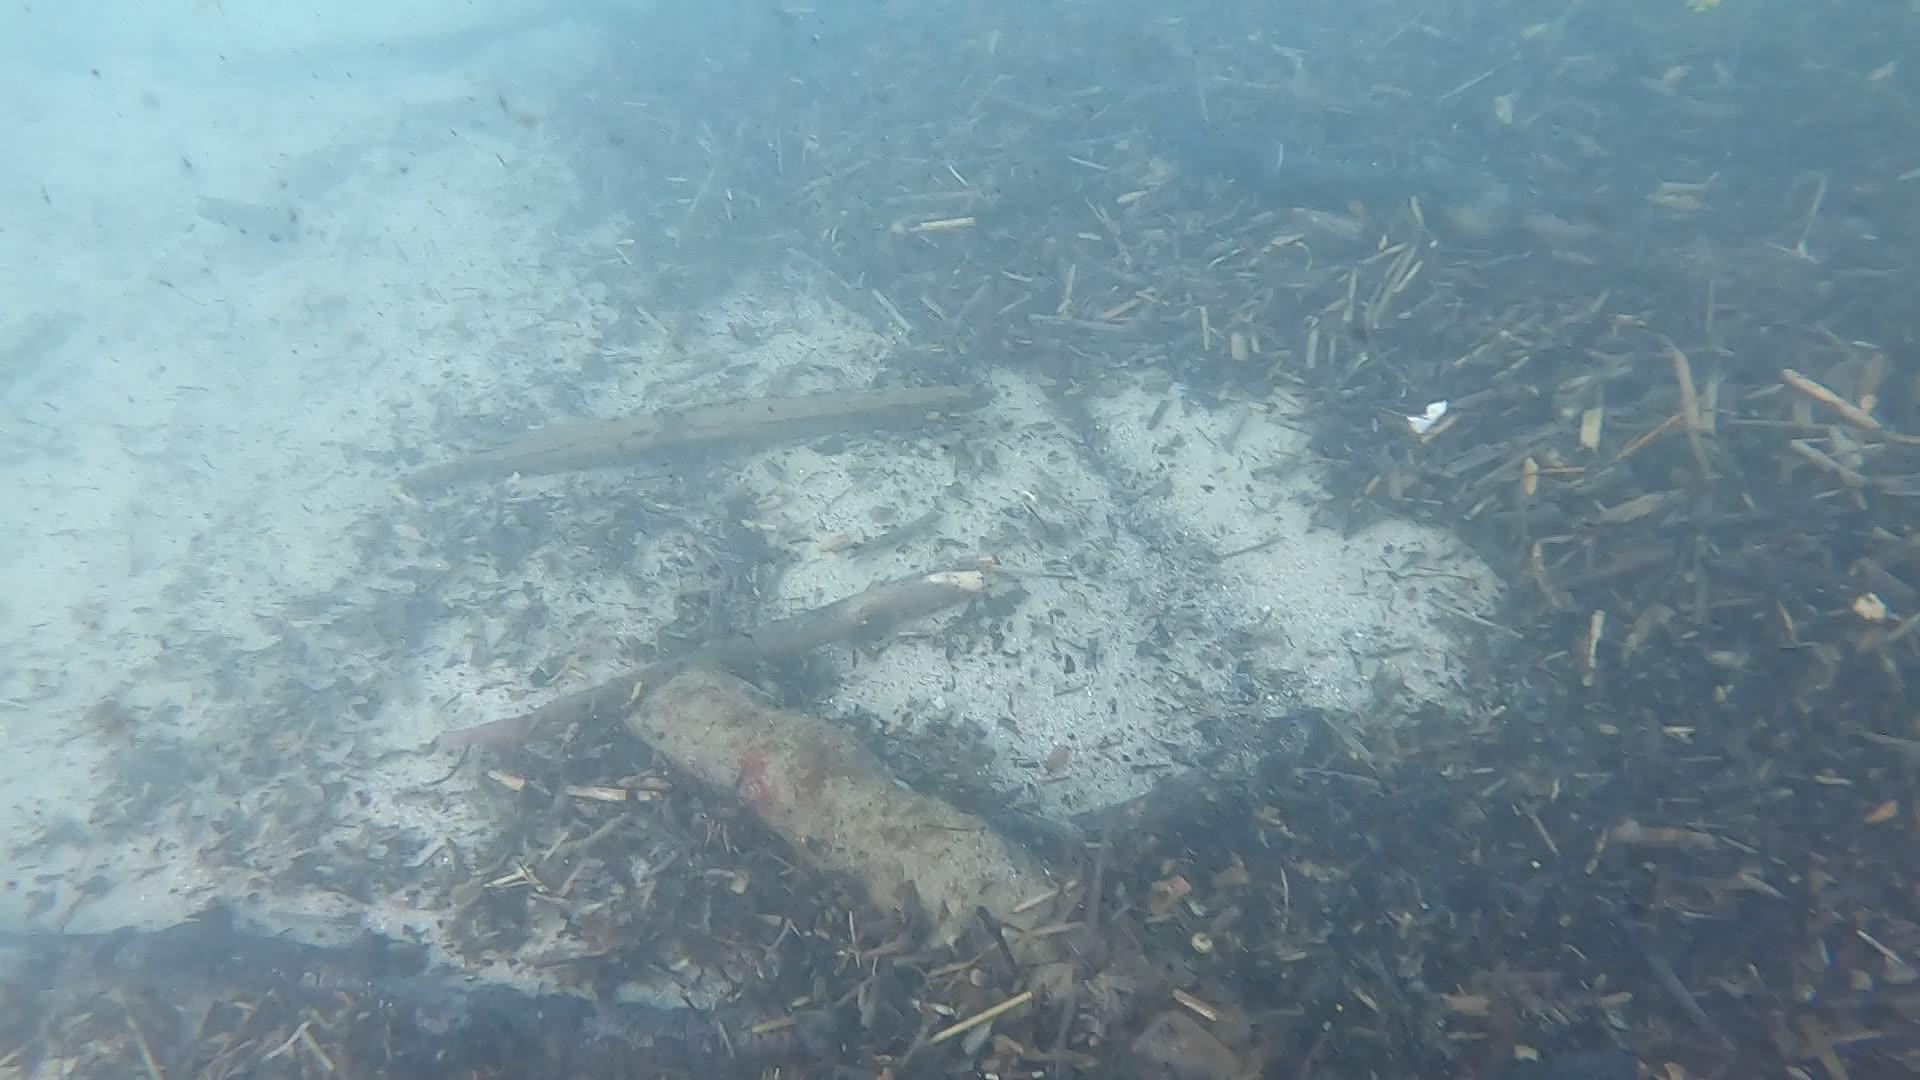wood: (615, 654, 1294, 1080), (440, 560, 996, 758), (386, 377, 986, 493)
